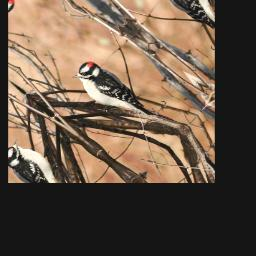Woodpecker: (67, 55, 160, 137)
